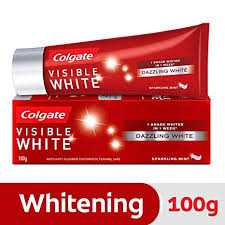colgate-medium: (11, 96, 213, 165)
